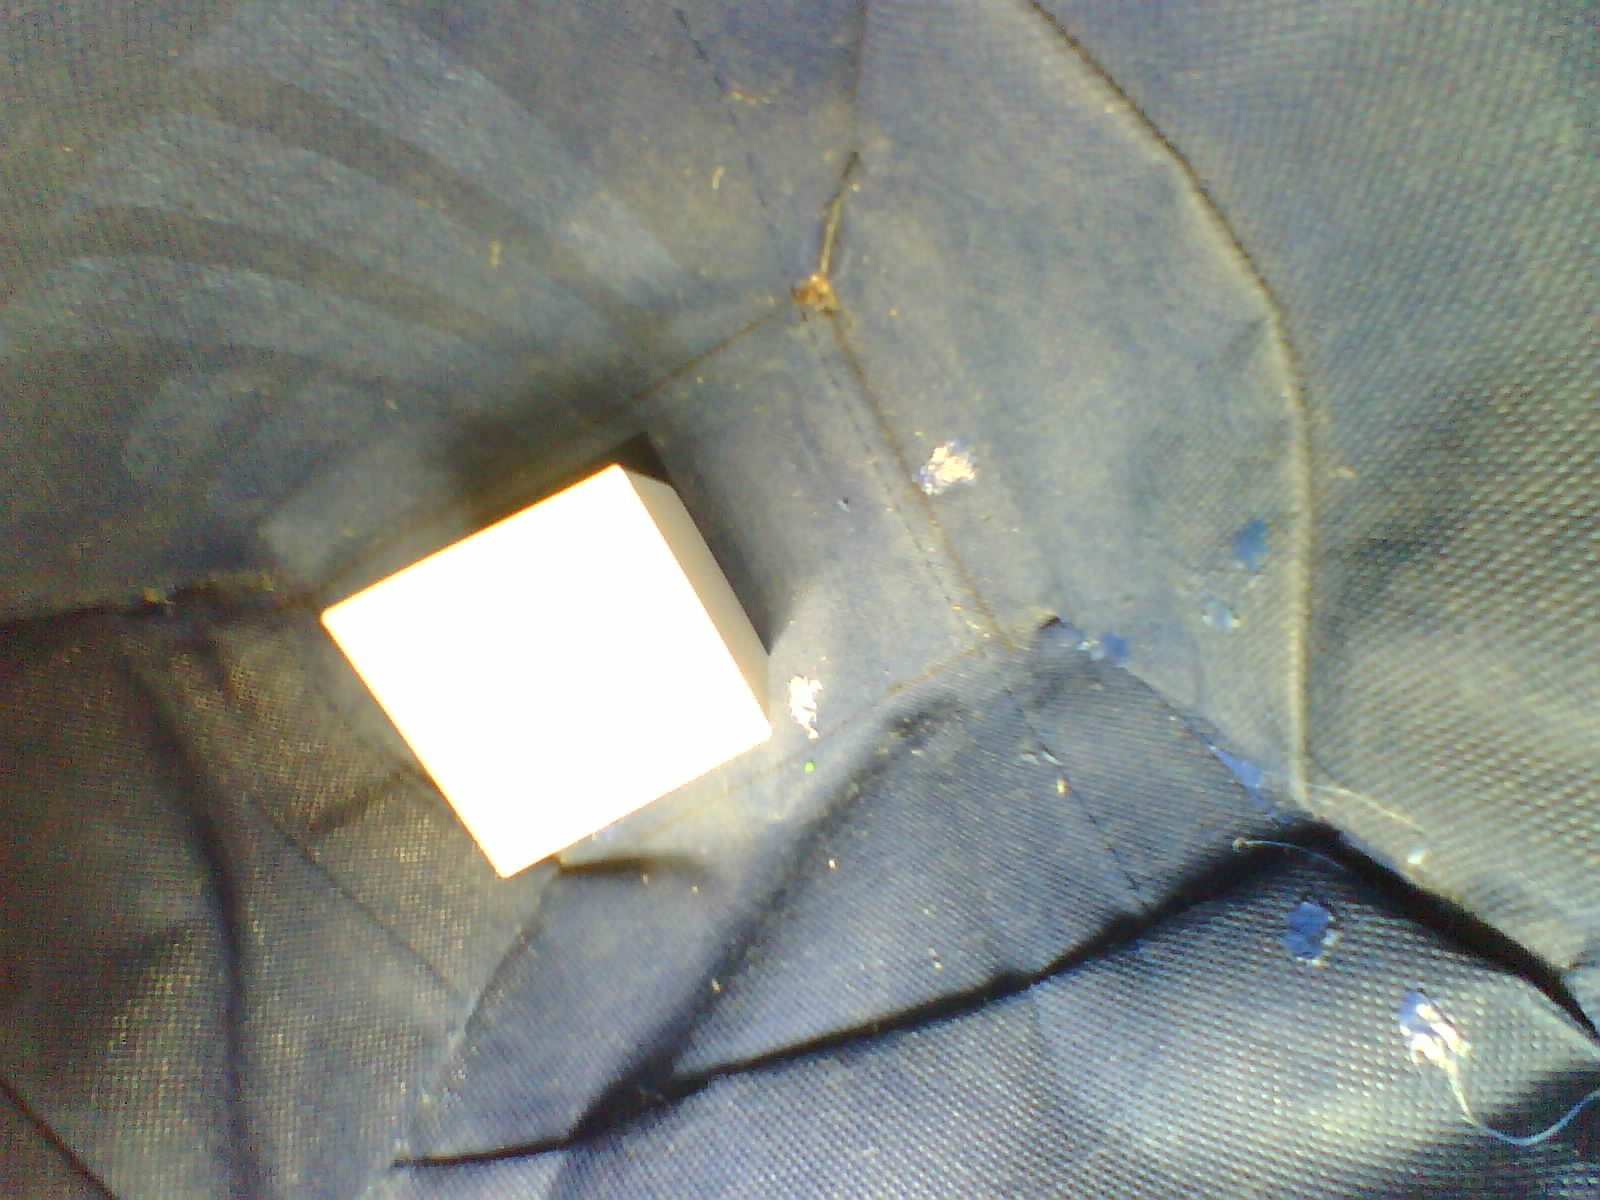cube-hard: (292, 451, 801, 891)
